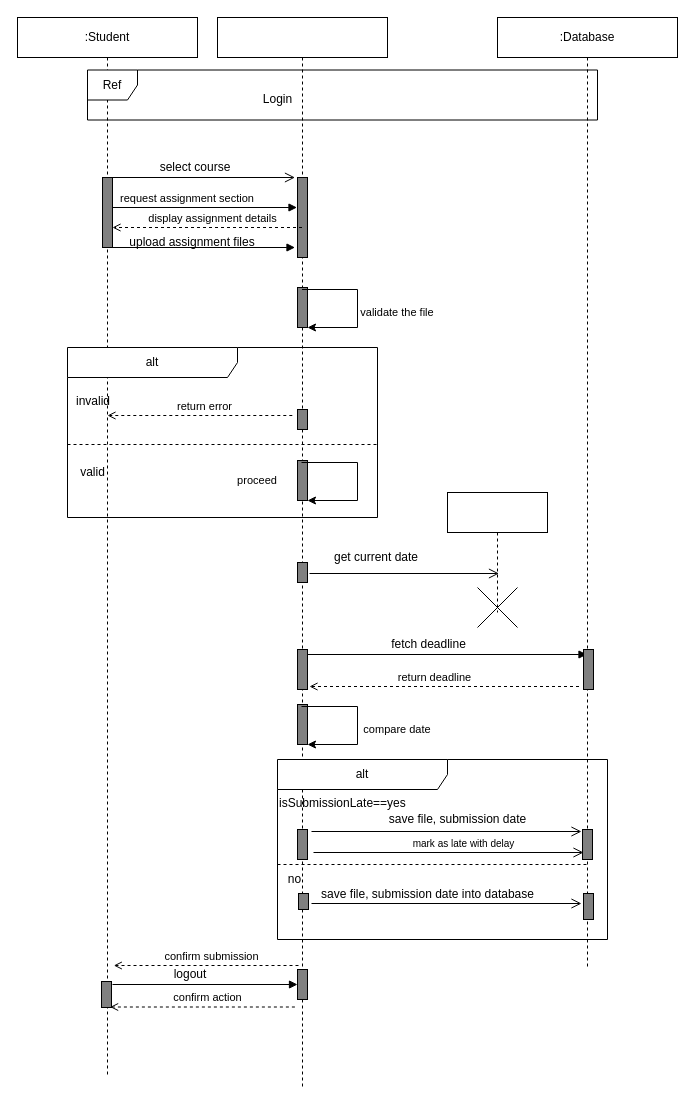
This 695x1105 diagram has some shape labels left out. The box of each missing label's shape, as (x1, y1, x2, y2) in pixels:
:clock: (446, 492, 548, 612)
:system: (216, 16, 388, 1088)
